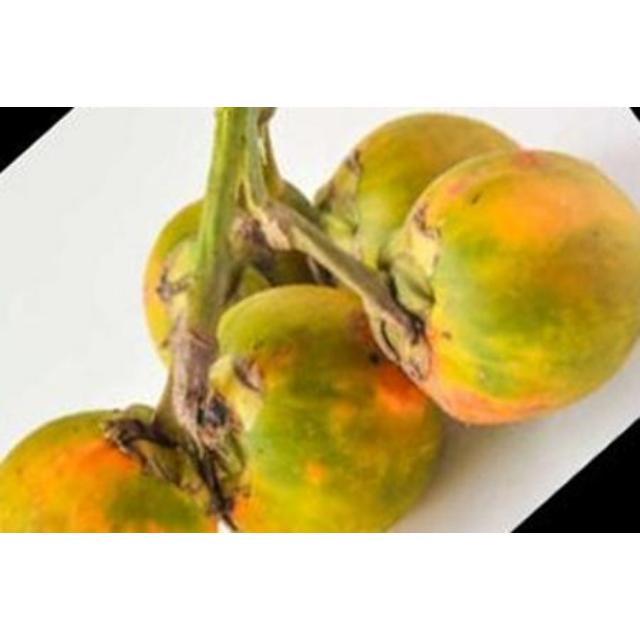good: (387, 150, 638, 424), (208, 283, 448, 532), (318, 110, 520, 284), (144, 196, 298, 370), (1, 411, 210, 531)
